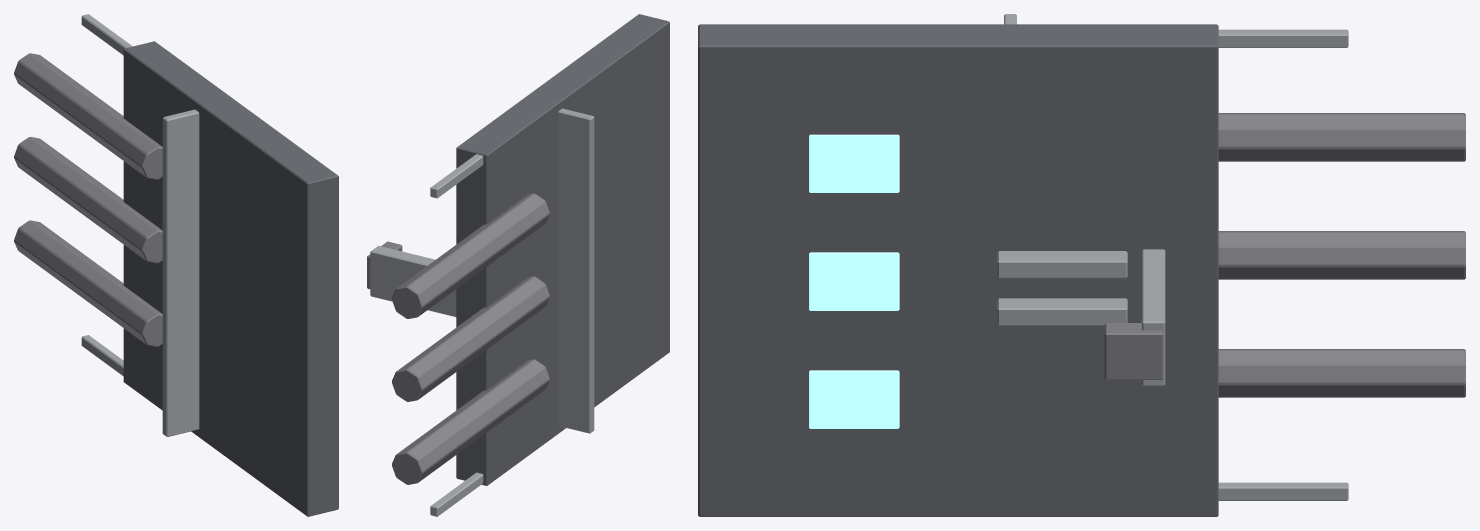
File: facade_cantilever_l.glb
3 renders of one model, left to right at view 1: azimuth 30°, elevation 25°; view 2: azimuth 150°, elevation 25°; view 3: azimuth 270°, elevation 25°, orthographic. The views are drawn at different scales.
Parts seen in each view (by area): view 1: FacadeCantilever_L; view 2: FacadeCantilever_L; view 3: FacadeCantilever_L.
Boxes of the visible parts, bbox=[...] form: FacadeCantilever_L: bbox=[14, 14, 338, 516]; FacadeCantilever_L: bbox=[367, 14, 669, 516]; FacadeCantilever_L: bbox=[698, 14, 1465, 516].
Bounding box in the file's own units: 2.18 × 4 × 5.9.
